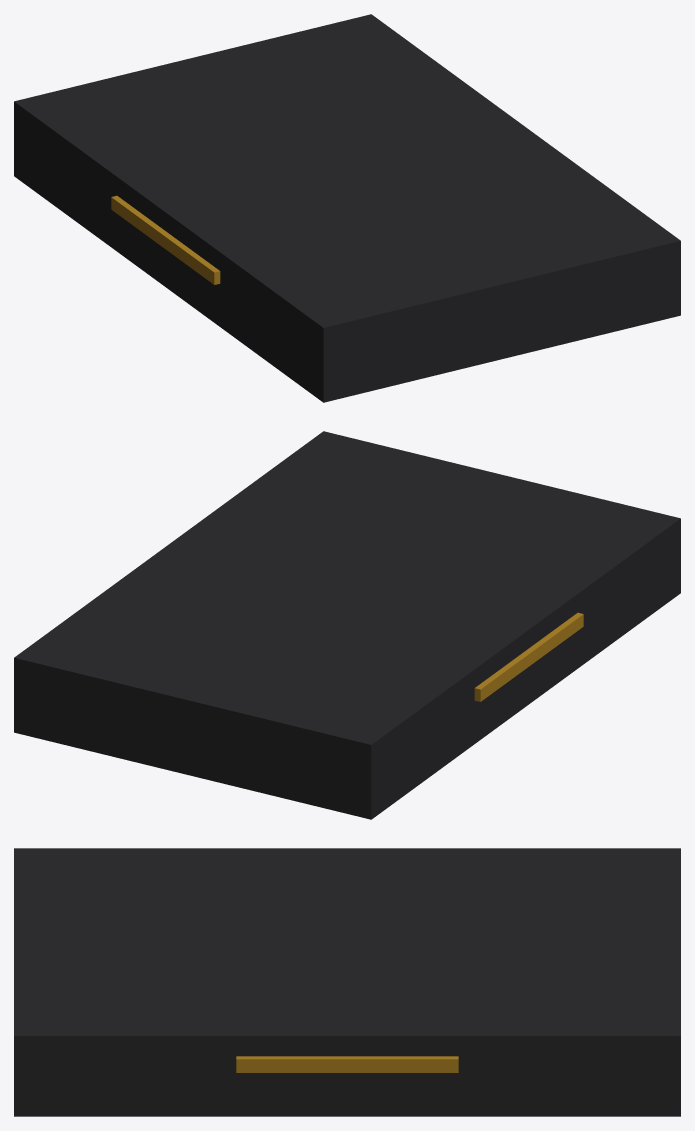
Rendered from phone_battery.glb.
The picture shows the model from 3 angles, top to bottom: view 1: azimuth 30°, elevation 25°; view 2: azimuth 150°, elevation 25°; view 3: azimuth 270°, elevation 25°; orthographic projection. The views are drawn at different scales.
Parts seen in each view (by area): view 1: phone_battery; view 2: phone_battery; view 3: phone_battery.
Boxes of the visible parts, left/top/right/bottom form: phone_battery: left=14, top=14, right=680, bottom=402; phone_battery: left=14, top=431, right=680, bottom=819; phone_battery: left=14, top=848, right=680, bottom=1116.
Size of the model in its own units: 0.062 by 0.012 by 0.09.
